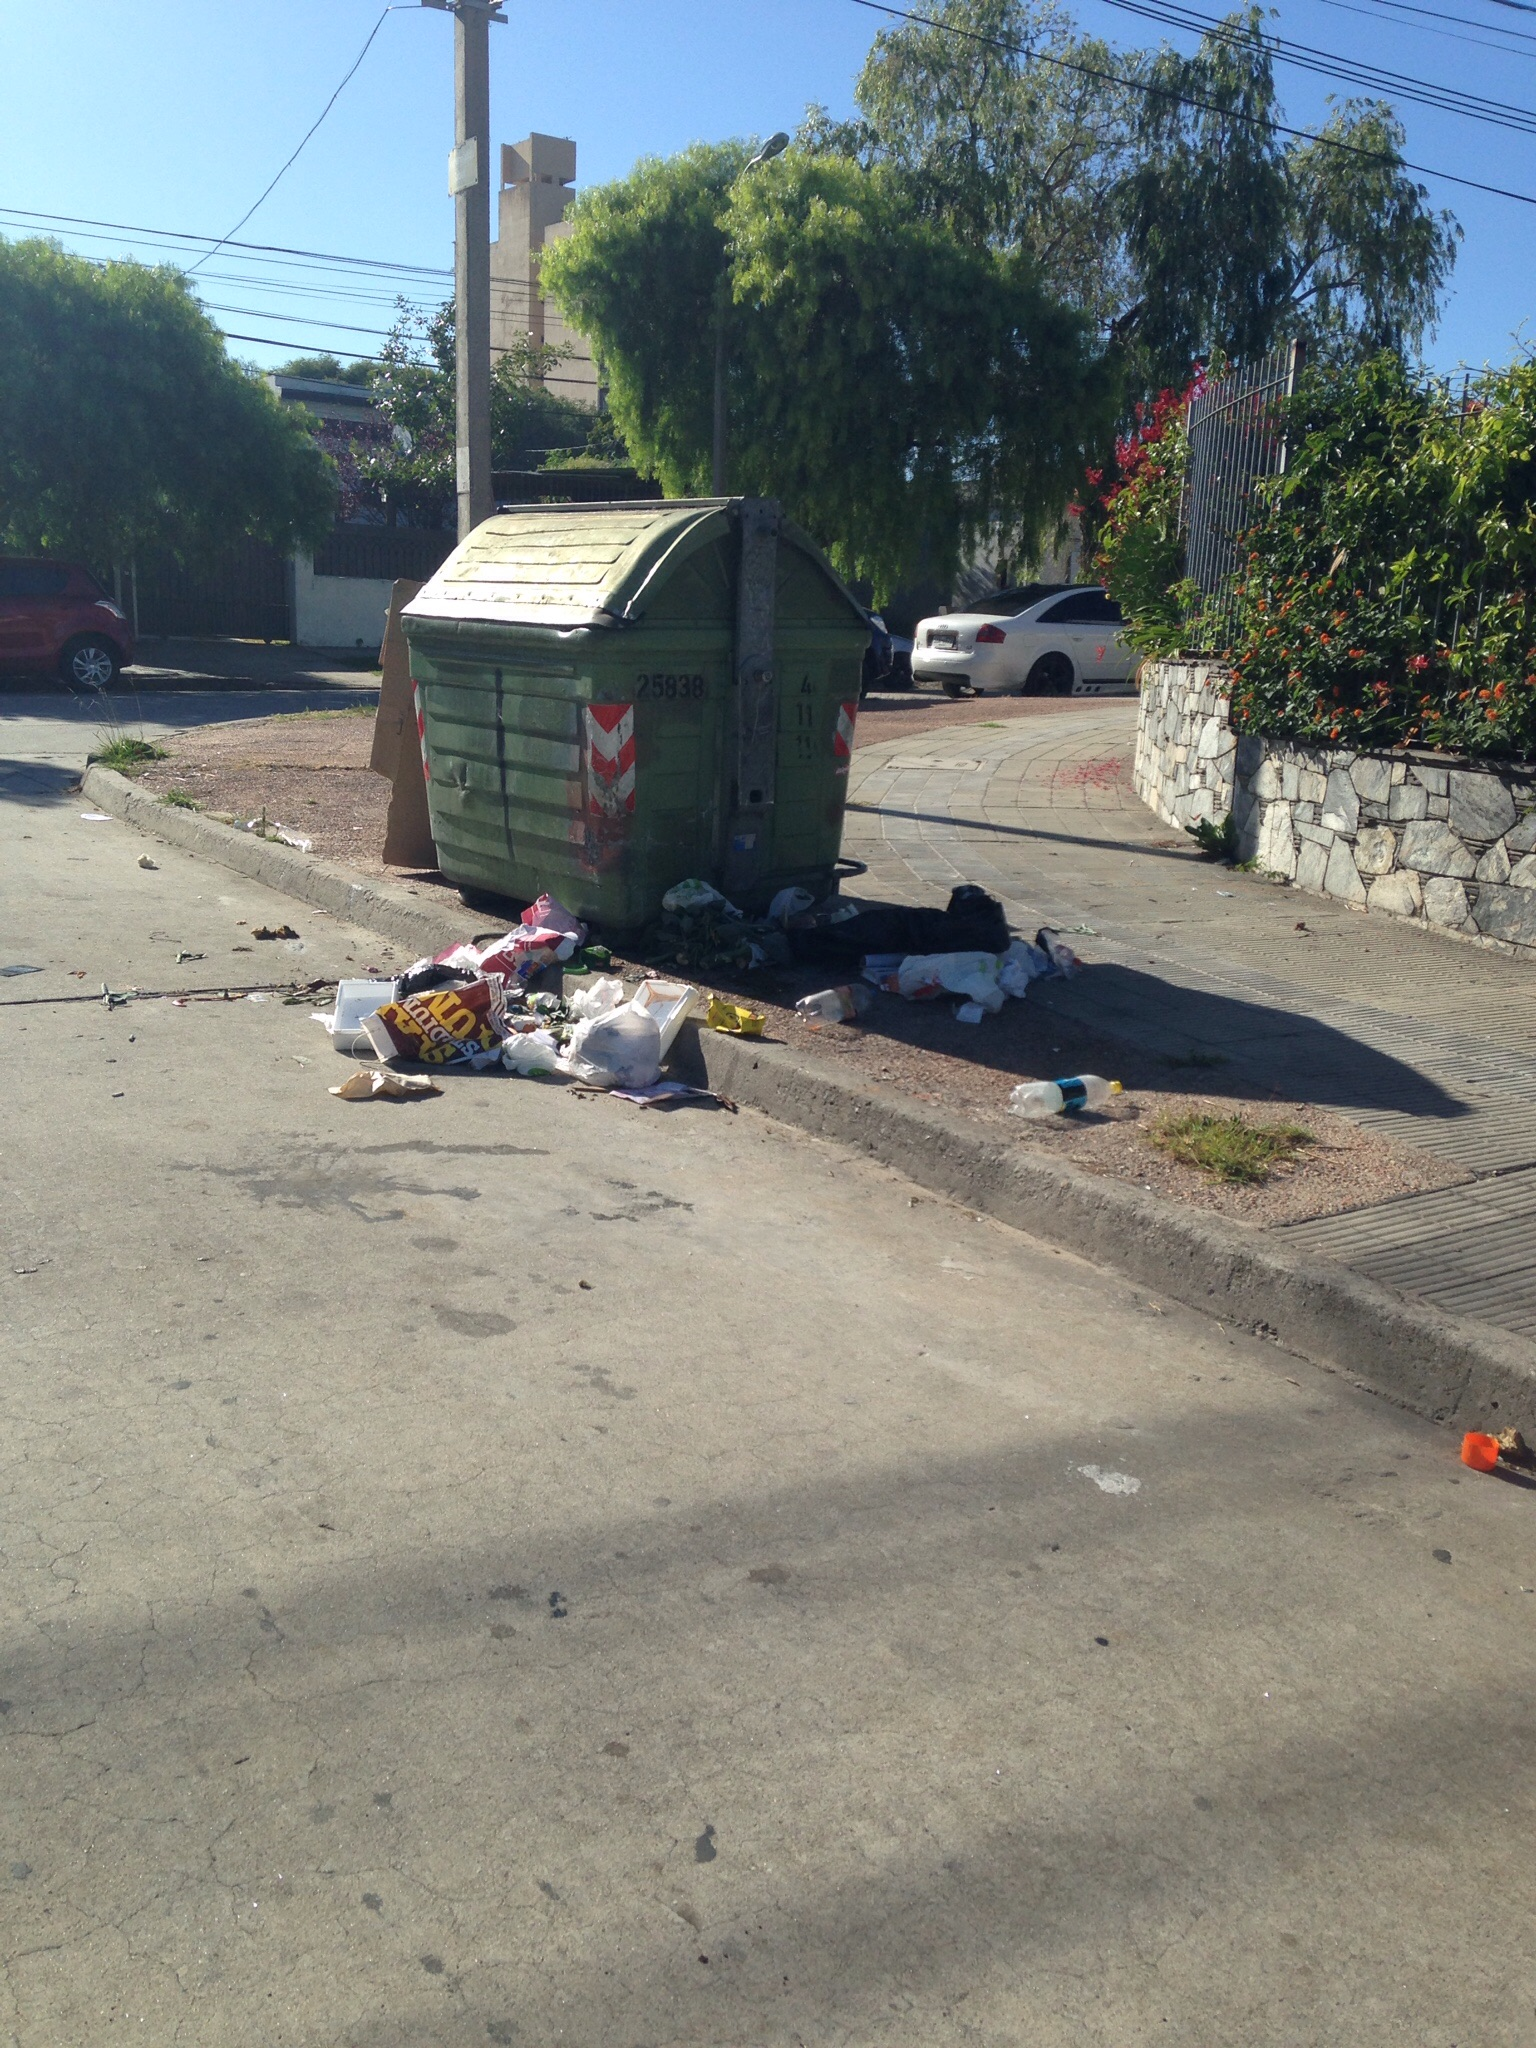container: (387, 481, 892, 943)
